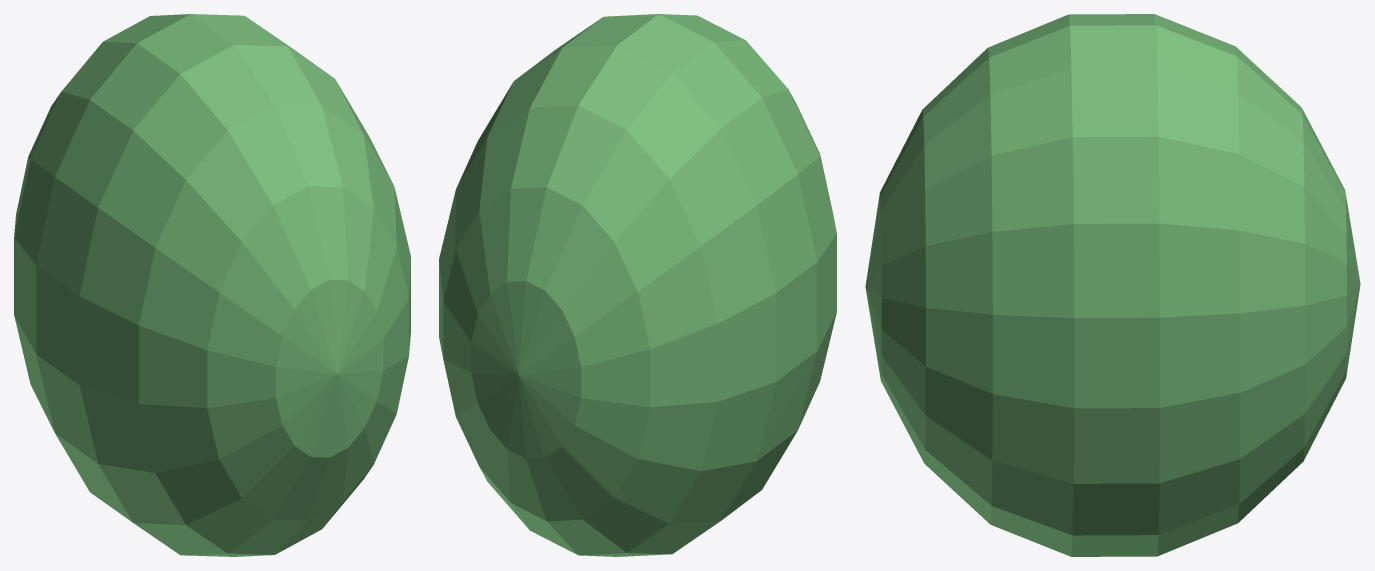
Rendered from spear.glb.
The picture shows the model from 3 angles, left to right: view 1: azimuth 30°, elevation 25°; view 2: azimuth 150°, elevation 25°; view 3: azimuth 270°, elevation 25°; orthographic projection.
Visible parts, largest first — view 1: Mesh_Mesh_head_geo.001_lambert2SG.001; view 2: Mesh_Mesh_head_geo.001_lambert2SG.001; view 3: Mesh_Mesh_head_geo.001_lambert2SG.001.
Boxes of the visible parts, <box> form: Mesh_Mesh_head_geo.001_lambert2SG.001: <box>14,14,410,556</box>; Mesh_Mesh_head_geo.001_lambert2SG.001: <box>439,14,836,556</box>; Mesh_Mesh_head_geo.001_lambert2SG.001: <box>865,14,1360,556</box>.
Bounding box in the file's own units: 0.0126 × 0.0197 × 0.017.
